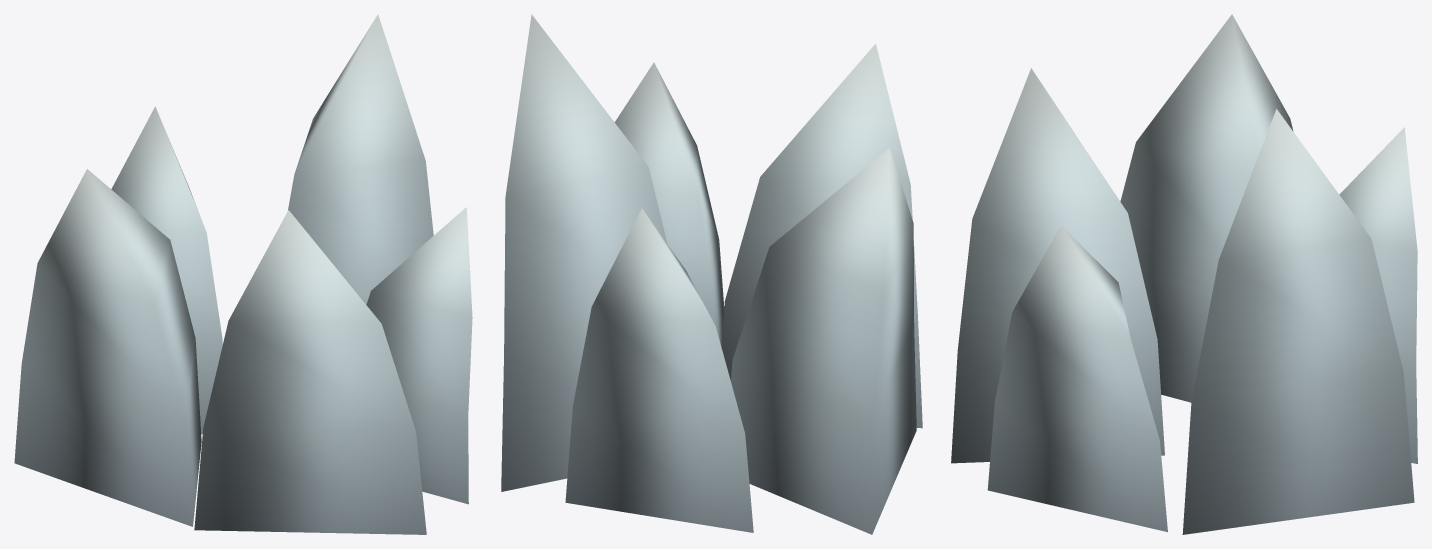
File: TopGrass_Snow_TuftSmall.fbx
3 renders of one model, left to right at view 1: azimuth 30°, elevation 25°; view 2: azimuth 150°, elevation 25°; view 3: azimuth 270°, elevation 25°, orthographic. The views are drawn at different scales.
Visible parts, largest first — view 1: TopGrass_Snow_TuftSmall_LOD0; view 2: TopGrass_Snow_TuftSmall_LOD0; view 3: TopGrass_Snow_TuftSmall_LOD0.
Boxes of the visible parts, left/top/right/bottom form: TopGrass_Snow_TuftSmall_LOD0: left=14, top=14, right=472, bottom=534; TopGrass_Snow_TuftSmall_LOD0: left=501, top=14, right=922, bottom=534; TopGrass_Snow_TuftSmall_LOD0: left=951, top=14, right=1417, bottom=534.
Size of what is drawn, in the model's own units: 0.2862 by 0.2823 by 0.2892.
